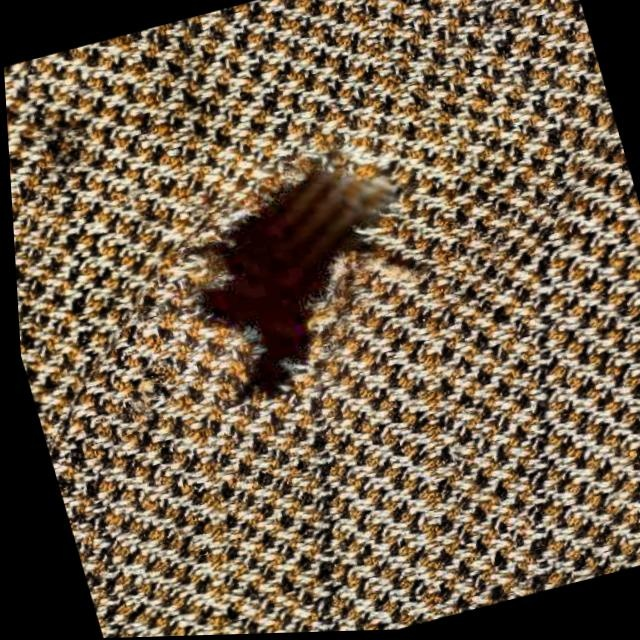Hole: (75, 63, 514, 489)
